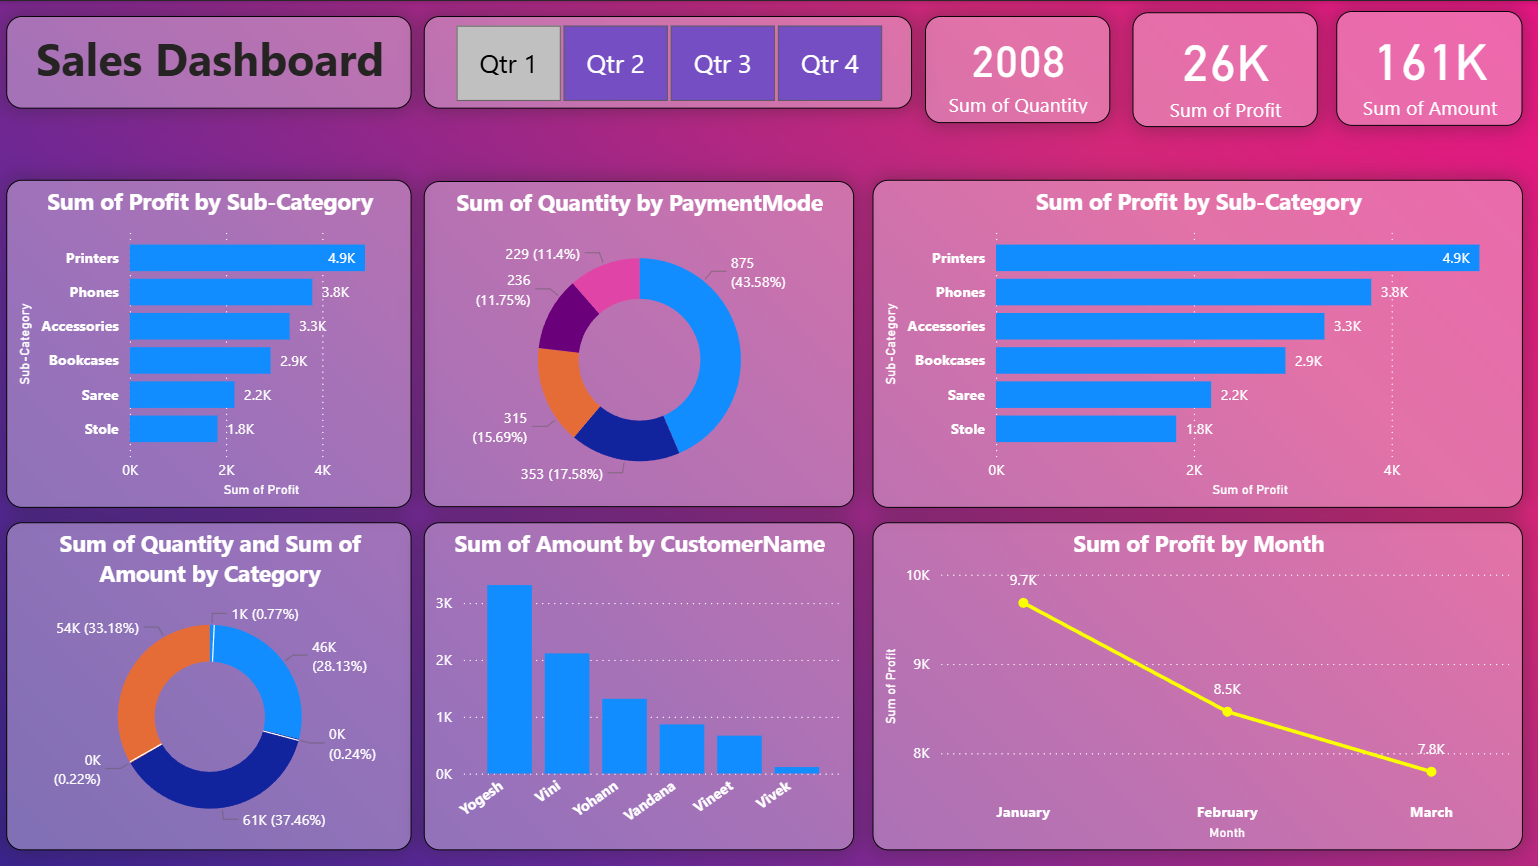

The dashboard page shown, as its layout file describes it:
{"tool":"powerbi","page":{"name":"Page 1","canvas":[1280,720],"ordinal":0},"visuals":[{"type":"textbox","box":[9.4,12.1,336.3,76.7],"z":0},{"type":"lineChart","fields":{"Category":["Orders.Order Date.Variation.Date Hierarchy.Month"],"Y":["Sum(Details.Profit)"]},"box":[727.7,431.8,539.4,271.7],"z":1000},{"type":"barChart","fields":{"Y":["Sum(Details.Profit)"],"Category":["Details.Sub-Category"]},"box":[727.7,148,539.4,271.7],"z":2000},{"type":"donutChart","fields":{"Y":["Sum(Details.Quantity)","Sum(Details.Amount)"],"Category":["Details.Category"]},"box":[9.4,431.8,336.3,271.7],"z":3000},{"type":"donutChart","fields":{"Y":["Sum(Details.Quantity)"],"Category":["Details.PaymentMode"]},"box":[355.1,149.3,356.5,270.4],"z":4000},{"type":"card","fields":{"Values":["Sum(Details.Amount)"]},"box":[1112.4,8.1,154.7,95.5],"z":5000},{"type":"card","fields":{"Values":["Sum(Details.Profit)"]},"box":[942.9,9.4,153.3,95.5],"z":6000},{"type":"card","fields":{"Values":["Sum(Details.Quantity)"]},"box":[770.7,12.1,153.3,88.8],"z":7000},{"type":"barChart","fields":{"Y":["Sum(Details.Profit)"],"Category":["Details.Sub-Category"]},"box":[9.4,148,336.3,271.7],"z":8000},{"type":"lineStackedColumnComboChart","fields":{"Category":["Orders.CustomerName"],"Y":["Sum(Details.Amount)"]},"box":[355.1,431.8,356.5,271.7],"z":9000},{"type":"slicer","fields":{"Values":["Orders.Order Date.Variation.Date Hierarchy.Quarter"]},"box":[355.1,12.1,404.9,76.7],"z":10000}]}

Visuals, with their boxes in screenshot pixels (x1, y1, x2, y2), scaled from the page's 1280x720 canvas onto the 1538x866 screenshot:
textbox: <bbox>11, 15, 415, 107</bbox>
lineChart - Orders.Order Date.Variation.Date Hierarchy.Month x Sum(Details.Profit): <bbox>874, 519, 1522, 846</bbox>
barChart - Sum(Details.Profit) x Details.Sub-Category: <bbox>874, 178, 1522, 505</bbox>
donutChart - Sum(Details.Quantity) x Sum(Details.Amount): <bbox>11, 519, 415, 846</bbox>
donutChart - Sum(Details.Quantity) x Details.PaymentMode: <bbox>427, 180, 855, 505</bbox>
card - Sum(Details.Amount): <bbox>1337, 10, 1522, 125</bbox>
card - Sum(Details.Profit): <bbox>1133, 11, 1317, 126</bbox>
card - Sum(Details.Quantity): <bbox>926, 15, 1110, 121</bbox>
barChart - Sum(Details.Profit) x Details.Sub-Category: <bbox>11, 178, 415, 505</bbox>
lineStackedColumnComboChart - Orders.CustomerName x Sum(Details.Amount): <bbox>427, 519, 855, 846</bbox>
slicer - Orders.Order Date.Variation.Date Hierarchy.Quarter: <bbox>427, 15, 913, 107</bbox>
